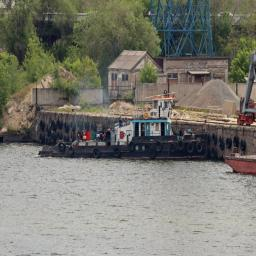tugboat: (38, 91, 210, 165)
